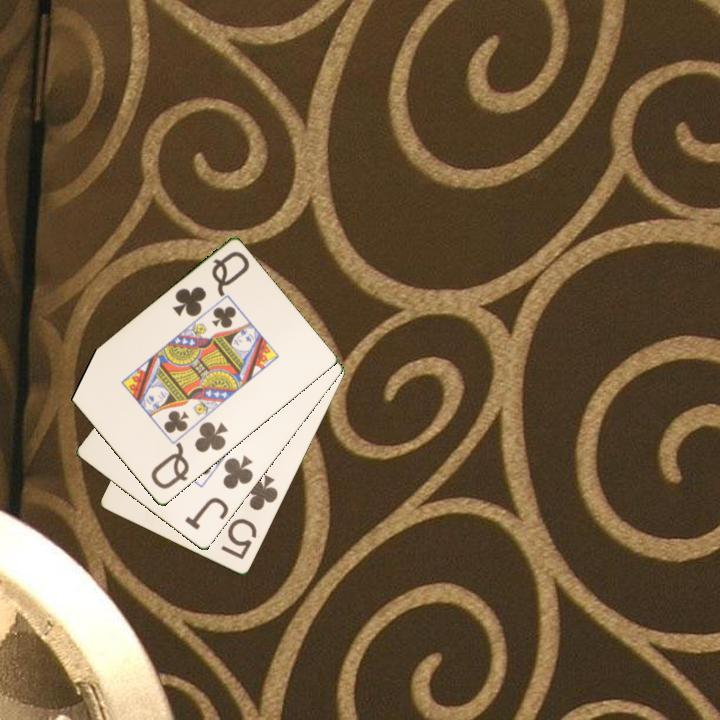5c: (217, 471, 281, 563)
Jc: (181, 452, 256, 533)
Qc: (147, 418, 231, 493), (169, 248, 252, 320)
